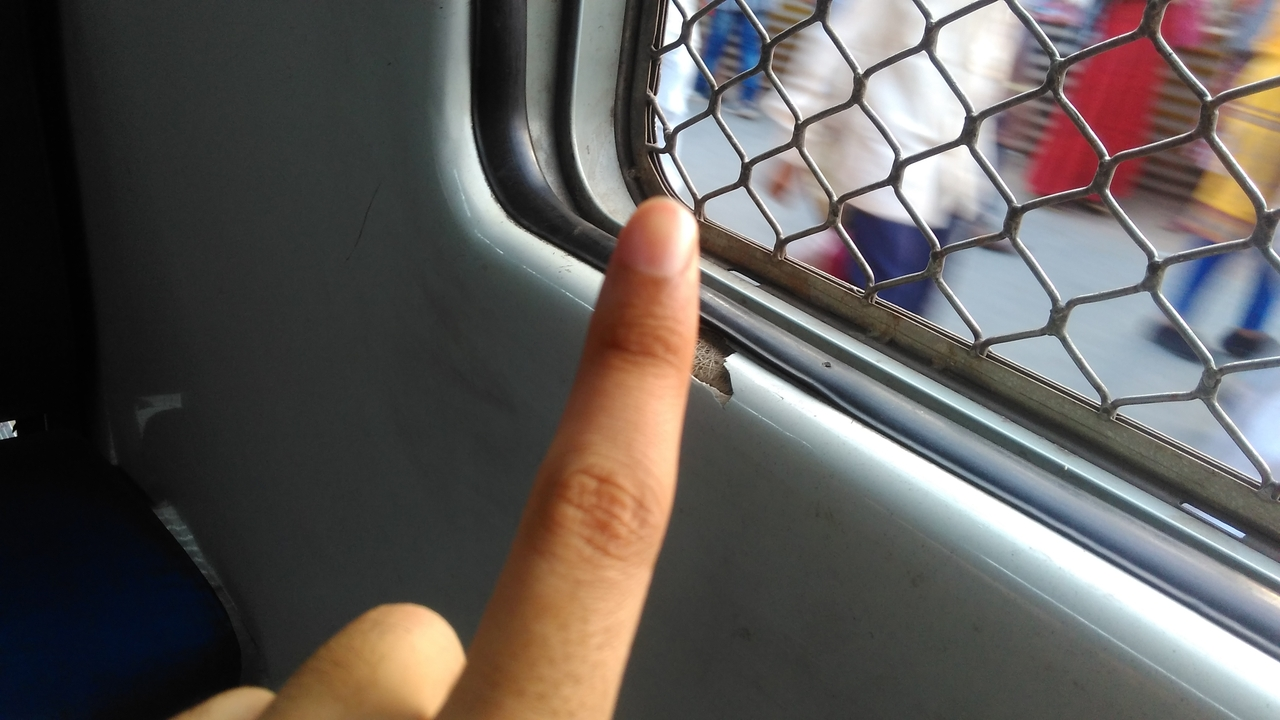fingertip: (620, 192, 702, 278)
